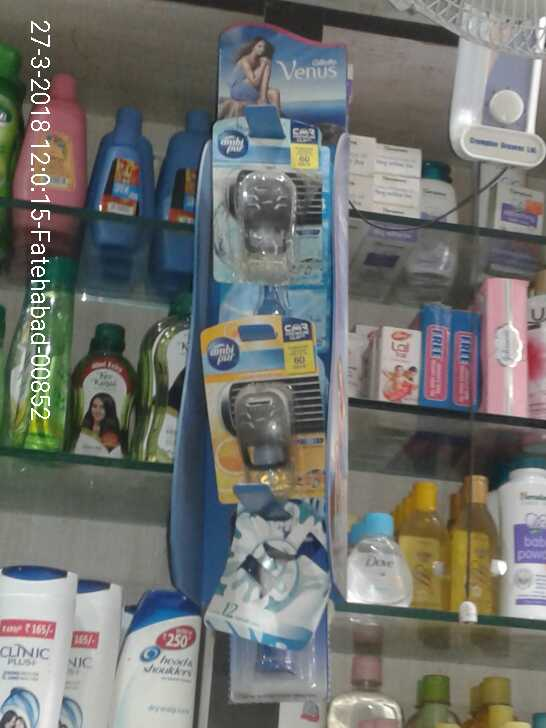ambipure: (195, 303, 332, 490), (203, 115, 335, 288)
